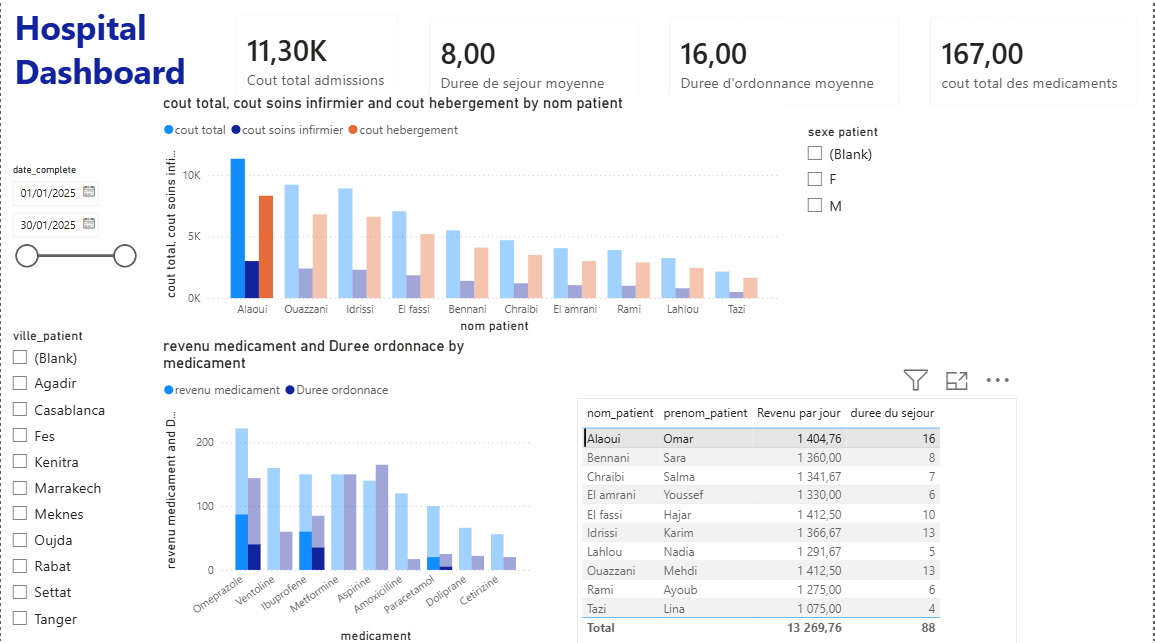

The page's visual inventory and layout, read from the dashboard file:
{"tool":"powerbi","page":{"name":"Page 1","canvas":[1280,720],"ordinal":0},"visuals":[{"type":"textbox","box":[10,0,231.7,178.3],"z":0},{"type":"slicer","fields":{"Values":["hospital dim_patient.ville_patient"]},"box":[0,360,158.3,360],"z":1000},{"type":"slicer","fields":{"Values":["hospital dim_date.date_complete"]},"box":[0,178.3,158.3,123.3],"z":2000},{"type":"cardVisual","fields":{"Data":["Sum(hospital fact_admission.cout_total)"]},"box":[242.5,0,215,132.5],"z":3000},{"type":"cardVisual","fields":{"Data":["Avg(hospital fact_admission.duree_sejour)"]},"box":[457.5,2.5,267.5,132.5],"z":4000},{"type":"cardVisual","fields":{"Data":["Avg(hospital fact_ordonnance.duree_ordonnace)"]},"box":[725,2.5,290,132.5],"z":5000},{"type":"cardVisual","fields":{"Data":["Sum(hospital fact_ordonnance.prix_medicament)"]},"box":[1015,2.5,265,132.5],"z":6000},{"type":"clusteredColumnChart","fields":{"Category":["hospital dim_patient.nom_patient"],"Y":["Sum(hospital fact_admission.cout_total)","Sum(hospital fact_admission.cout_soins_infirmiers)","Sum(hospital fact_admission.cout_hebergement)"]},"box":[175,105,695,270],"z":7000},{"type":"slicer","fields":{"Values":["hospital dim_patient.sexe_patient"]},"box":[883.3,133.3,168.3,203.3],"z":7001},{"type":"clusteredColumnChart","fields":{"Y":["Sum(hospital fact_ordonnance.prix_medicament)","Sum(hospital fact_ordonnance.duree_ordonnace)"],"Category":["hospital dim_medicament.nom_medicament"]},"box":[175,375,416.7,345],"z":7002},{"type":"tableEx","fields":{"Values":["hospital dim_patient.nom_patient","hospital dim_patient.prenom_patient","Sum(hospital fact_admission.cout_par_jour)","Sum(hospital fact_admission.duree_sejour)"]},"box":[640,443.3,488.3,276.7],"z":7003}]}

Visuals, with their boxes in screenshot pixels (x1, y1, x2, y2), scaled from the page's 1280x720 canvas onto the 1155x643 screenshot:
textbox: region(9, 0, 218, 159)
slicer - hospital dim_patient.ville_patient: region(0, 322, 143, 642)
slicer - hospital dim_date.date_complete: region(0, 159, 143, 269)
cardVisual - Sum(hospital fact_admission.cout_total): region(219, 0, 413, 118)
cardVisual - Avg(hospital fact_admission.duree_sejour): region(413, 2, 654, 121)
cardVisual - Avg(hospital fact_ordonnance.duree_ordonnace): region(654, 2, 916, 121)
cardVisual - Sum(hospital fact_ordonnance.prix_medicament): region(916, 2, 1154, 121)
clusteredColumnChart - hospital dim_patient.nom_patient x Sum(hospital fact_admission.cout_total): region(158, 94, 785, 335)
slicer - hospital dim_patient.sexe_patient: region(797, 119, 949, 301)
clusteredColumnChart - Sum(hospital fact_ordonnance.prix_medicament) x Sum(hospital fact_ordonnance.duree_ordonnace): region(158, 335, 534, 642)
tableEx - hospital dim_patient.nom_patient x hospital dim_patient.prenom_patient: region(578, 396, 1018, 642)
